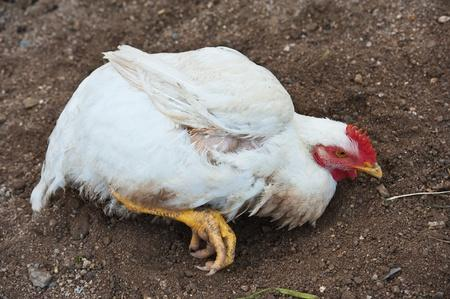AbNormal: (27, 41, 401, 276)
